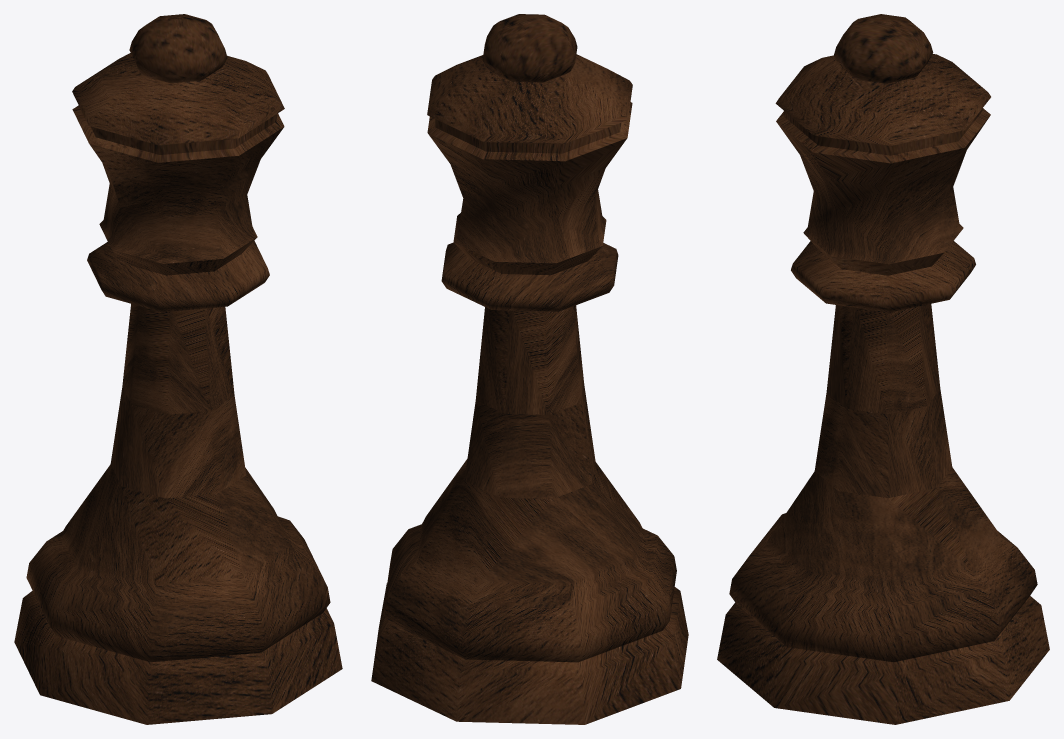
File: BlackQueen.gltf
The picture shows the model from 3 angles, left to right: view 1: azimuth 30°, elevation 25°; view 2: azimuth 150°, elevation 25°; view 3: azimuth 270°, elevation 25°; orthographic projection.
Parts seen in each view (by area): view 1: Object_18; view 2: Object_18; view 3: Object_18.
Boxes of the visible parts, <box> form: Object_18: <box>14,14,342,724</box>; Object_18: <box>371,14,688,724</box>; Object_18: <box>717,14,1049,724</box>.
Bounding box in the file's own units: 0.0296 × 0.0621 × 0.0296.
1 material, 1 textured.
